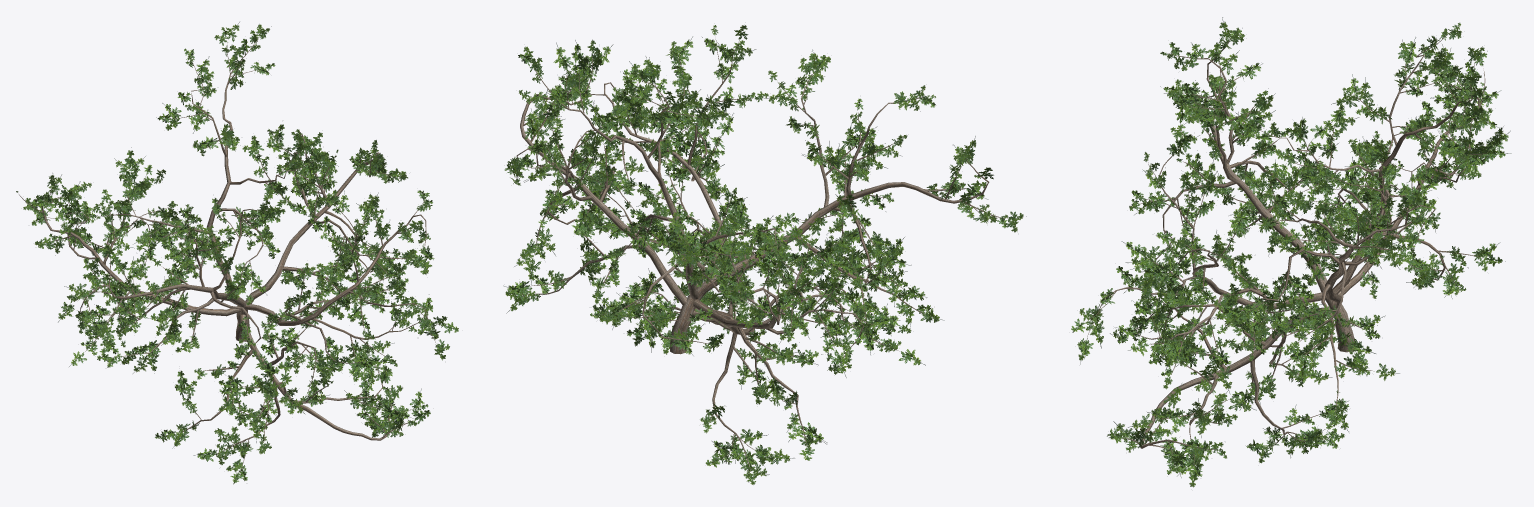
Rendered from eztree-boxelder-understory-b.glb.
3 views of the same model, side by side, from view 1: azimuth 30°, elevation 25°; view 2: azimuth 150°, elevation 25°; view 3: azimuth 270°, elevation 25° (orthographic). The views are drawn at different scales.
Visible parts, largest first — view 1: eztree-boxelder-understory-b; view 2: eztree-boxelder-understory-b; view 3: eztree-boxelder-understory-b.
Boxes of the visible parts, left/top/right/bottom form: eztree-boxelder-understory-b: left=16, top=22, right=458, bottom=484; eztree-boxelder-understory-b: left=503, top=25, right=1026, bottom=484; eztree-boxelder-understory-b: left=1071, top=17, right=1511, bottom=487.
Bounding box in the file's own units: 88.87 × 89.61 × 77.57.
2 materials, 2 textured.
